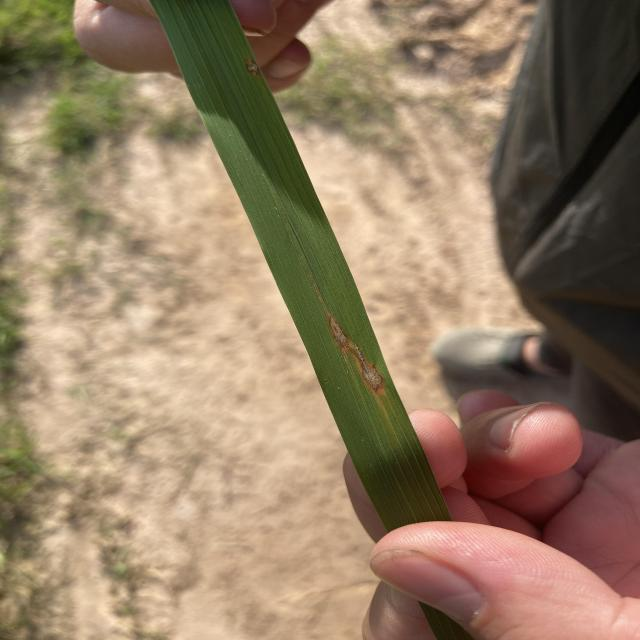Dao on: (352, 343, 383, 390), (330, 316, 348, 349), (245, 59, 259, 76)
